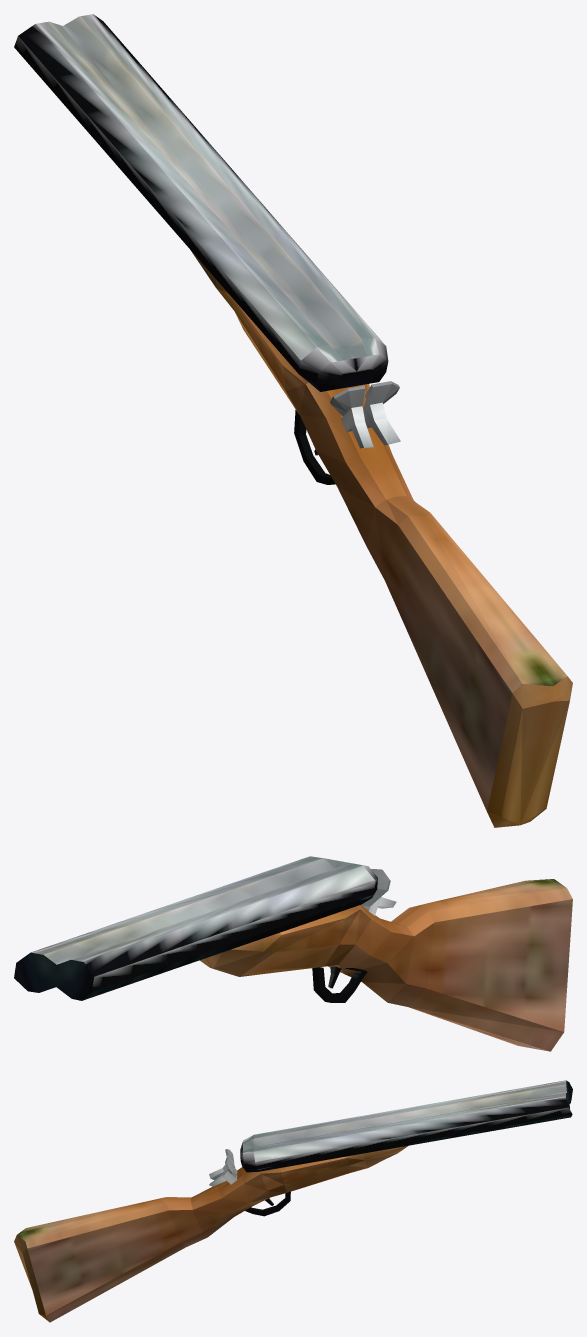
File: shoot0005.obj
3 views of the same model, one above another, from view 1: azimuth 30°, elevation 25°; view 2: azimuth 150°, elevation 25°; view 3: azimuth 270°, elevation 25° (orthographic). The views are drawn at different scales.
Parts seen in each view (by area): view 1: Cube, Cube.001, Cube.003; view 2: Cube, Cube.001, Cube.002, Cube.003; view 3: Cube, Cube.001, Cube.003, Cube.002.
Part boxes in pixels (<box>): Cube: <box>191,251,572,827</box>; Cube.001: <box>14,14,388,391</box>; Cube.003: <box>330,381,400,448</box>; Cube: <box>200,879,572,1051</box>; Cube.001: <box>14,856,377,1000</box>; Cube.002: <box>312,966,367,1002</box>; Cube.003: <box>361,869,396,915</box>; Cube: <box>14,1145,408,1322</box>; Cube.001: <box>240,1080,572,1172</box>; Cube.003: <box>209,1149,237,1186</box>; Cube.002: <box>245,1191,290,1216</box>.
Size of the model in its own units: 0.2537 by 1.03 by 2.19.
Materials: 1 (1 with a texture image).
